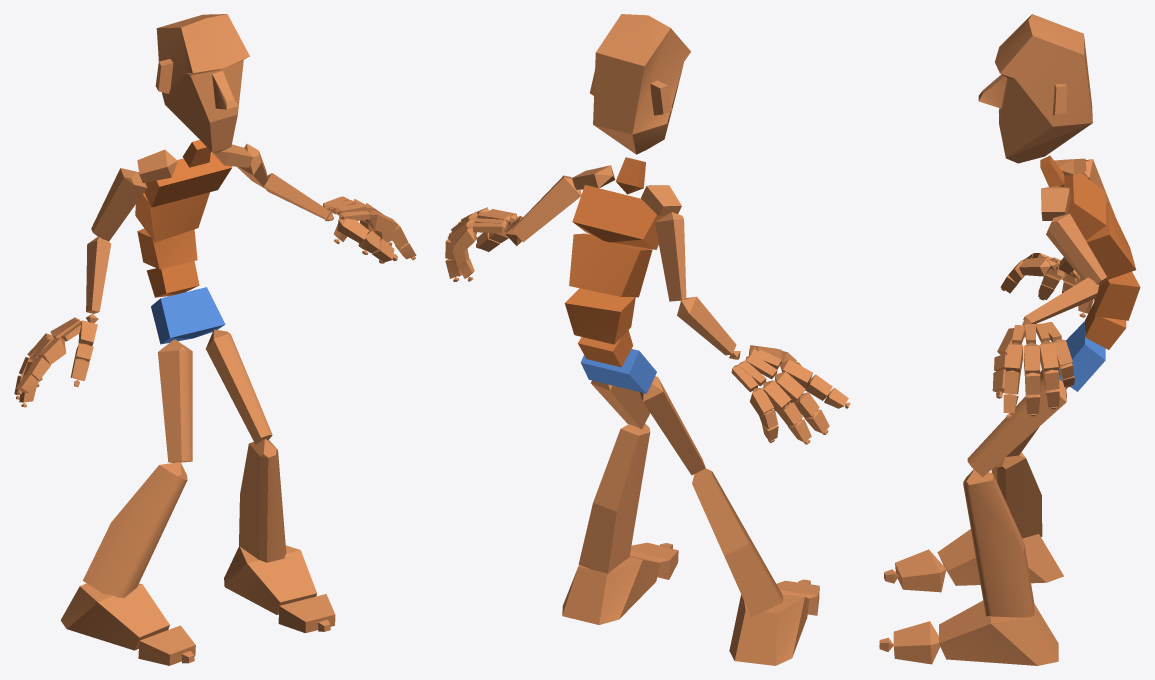
The model's file is prueba207.obj.
3 renders of one model, left to right at view 1: azimuth 30°, elevation 25°; view 2: azimuth 150°, elevation 25°; view 3: azimuth 270°, elevation 25°, orthographic. The views are drawn at different scales.
Parts seen in each view (by area): view 1: BOPED_Head, BOPED_R_leg, BOPED_L_leg, BOPED_R_foot, BOPED_R_foot01, BOPED_R_legup, BOPED_L_legup, Bone01, Bone05, Bone04, BOPED_R_arm_upper, Bone03 (+8 smaller); view 2: BOPED_Head, BOPED_L_leg, BOPED_R_leg, BOPED_R_foot01, BOPED_R_foot, Bone04, Bone05, Bone03, BOPED_R_legup, BOPED_R_arm_upper, Bone01, BOPED_L_arm_upper (+8 smaller); view 3: BOPED_Head, BOPED_L_leg, BOPED_R_foot01, BOPED_L_legup, BOPED_R_foot, BOPED_R_leg, BOPED_L_arm_upper, Bone05, Bone04, Bone03, BOPED_R_foot_toe01, BOPED_R_foot_toe04 (+10 smaller).
Boxes of the visible parts, x1,y1,x2,y2 form: BOPED_Head: [155, 14, 249, 153]; BOPED_R_leg: [82, 462, 187, 597]; BOPED_L_leg: [239, 439, 286, 562]; BOPED_R_foot: [60, 583, 169, 650]; BOPED_R_foot01: [224, 545, 316, 614]; BOPED_R_legup: [158, 339, 192, 462]; BOPED_L_legup: [206, 329, 272, 444]; Bone01: [151, 287, 225, 344]; Bone05: [144, 151, 232, 207]; Bone04: [135, 192, 209, 242]; BOPED_R_arm_upper: [91, 168, 147, 241]; Bone03: [137, 228, 197, 269]; BOPED_Head: [590, 14, 690, 154]; BOPED_L_leg: [578, 423, 650, 574]; BOPED_R_leg: [692, 468, 783, 617]; BOPED_R_foot01: [562, 555, 659, 624]; BOPED_R_foot: [729, 594, 809, 665]; Bone04: [569, 233, 652, 297]; Bone05: [572, 185, 664, 249]; Bone03: [564, 288, 635, 344]; BOPED_R_legup: [639, 376, 705, 475]; BOPED_R_arm_upper: [655, 212, 686, 301]; Bone01: [580, 349, 656, 393]; BOPED_L_arm_upper: [511, 175, 581, 242]; BOPED_Head: [978, 14, 1092, 163]; BOPED_L_leg: [963, 469, 1034, 617]; BOPED_R_foot01: [939, 600, 1058, 665]; BOPED_L_legup: [967, 377, 1066, 477]; BOPED_R_foot: [937, 529, 1063, 585]; BOPED_R_leg: [991, 452, 1042, 538]; BOPED_L_arm_upper: [1046, 213, 1107, 286]; Bone05: [1063, 173, 1106, 240]; Bone04: [1086, 202, 1136, 280]; Bone03: [1094, 271, 1140, 320]; BOPED_R_foot_toe01: [895, 549, 946, 592]; BOPED_R_foot_toe04: [893, 621, 940, 664].
Size of the model in its own units: 130 by 184 by 71.86.
